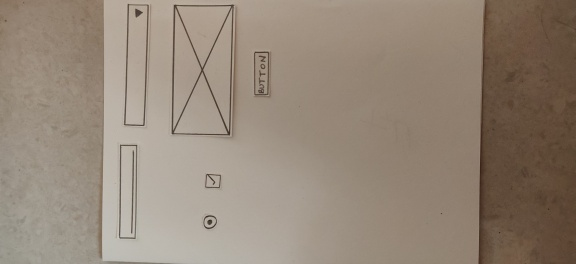button: (251, 49, 272, 100)
checkbox: (203, 171, 223, 193)
dropdown: (124, 2, 152, 129)
img: (169, 3, 235, 139)
radio: (201, 214, 218, 230)
text: (117, 142, 140, 244)
